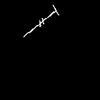treble_crochet: (24, 5, 58, 36)
